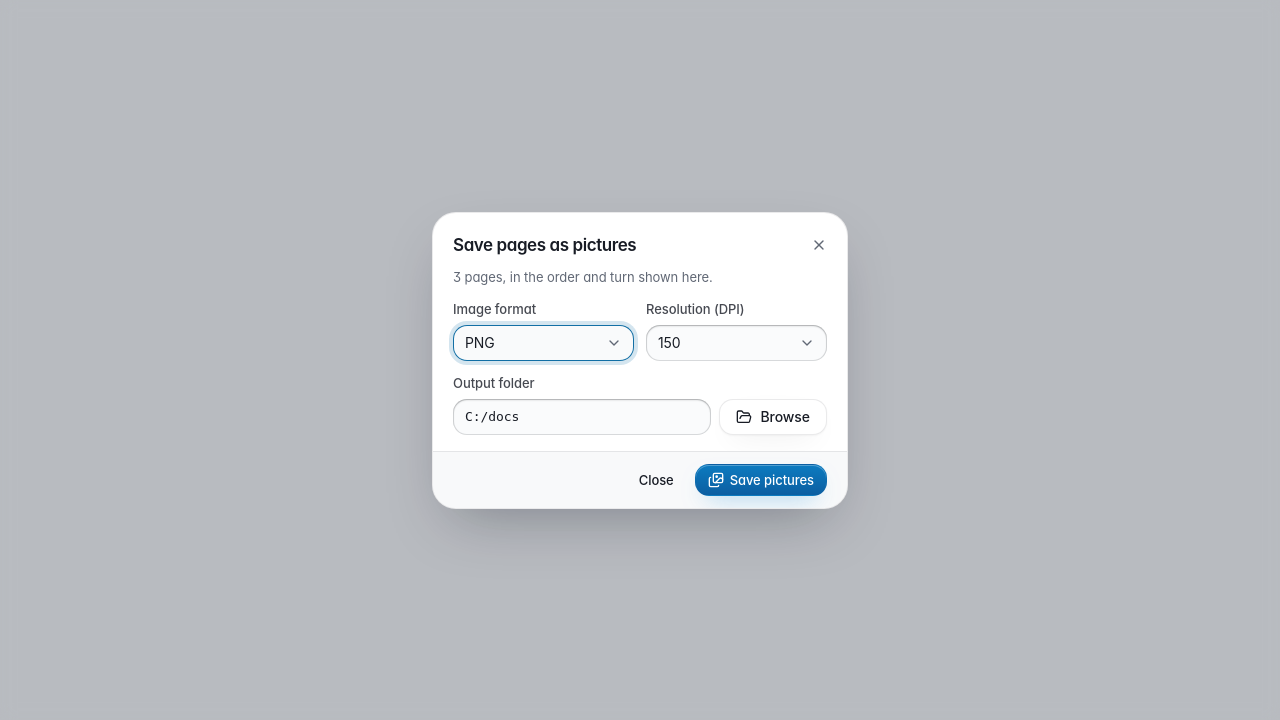
ExportImagesDialog › renders the arranged copy as pictures named after the document and then deletes the copy
The width and height of the screenshot is (1280, 720).
Click the button "Save pictures" at [761, 480], box x1=695 y1=464 x2=827 y2=496
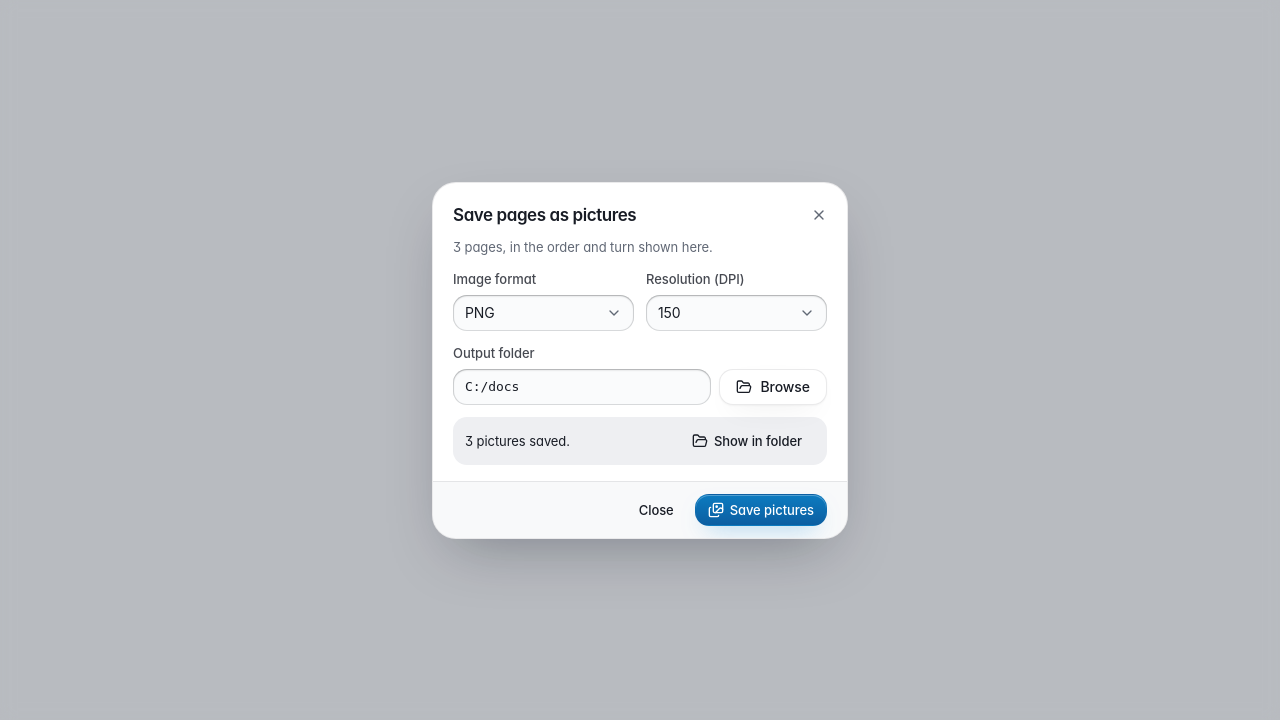
Now the text "3 pictures saved." is shown, box x1=465 y1=430 x2=570 y2=450
